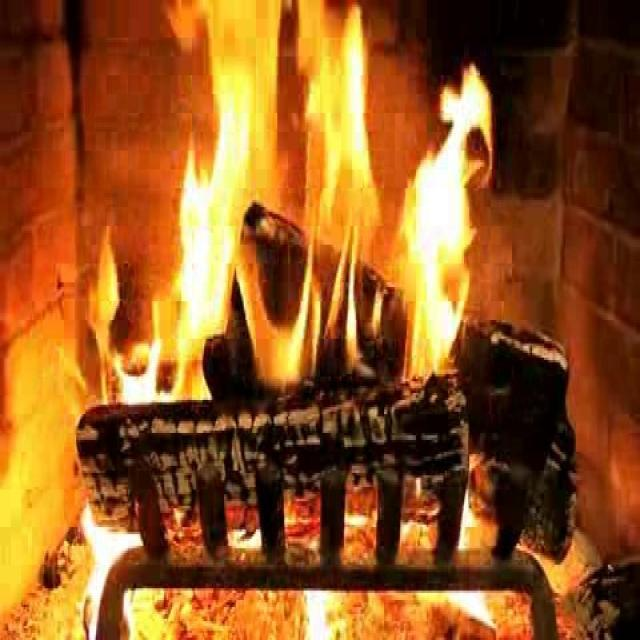Fire: (155, 0, 540, 406)
